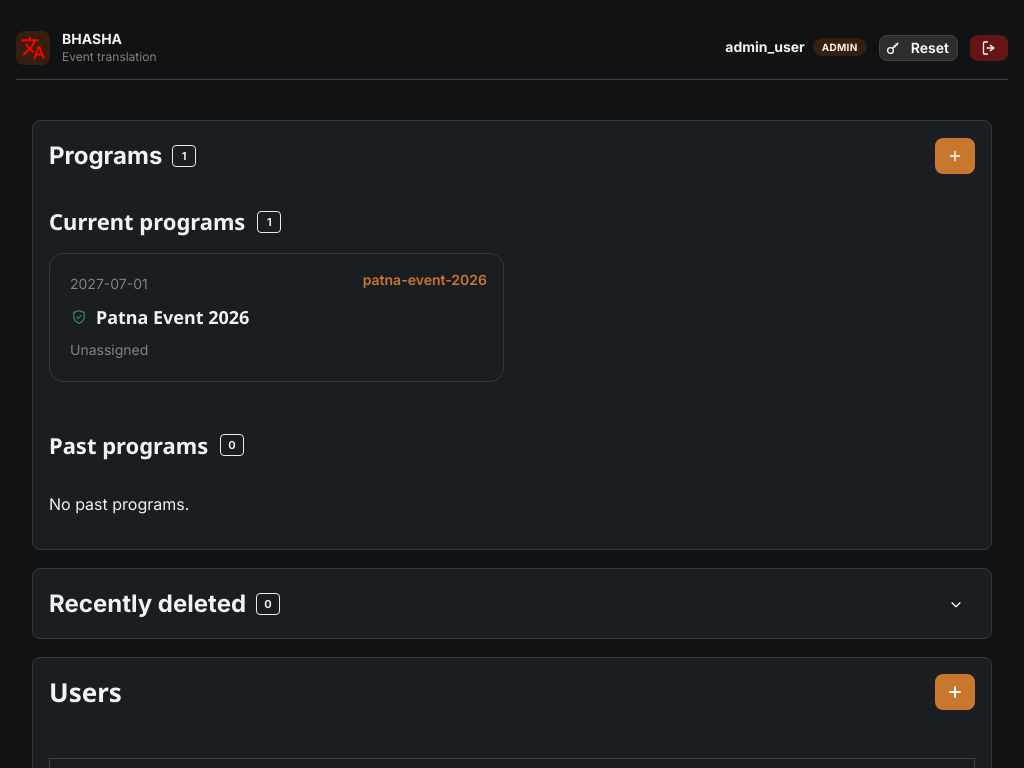
Test: AdminScreen › signs out from the Account panel and returns to the login screen
Click the button named "Log out" at (989, 48), box [970,34,1008,60]
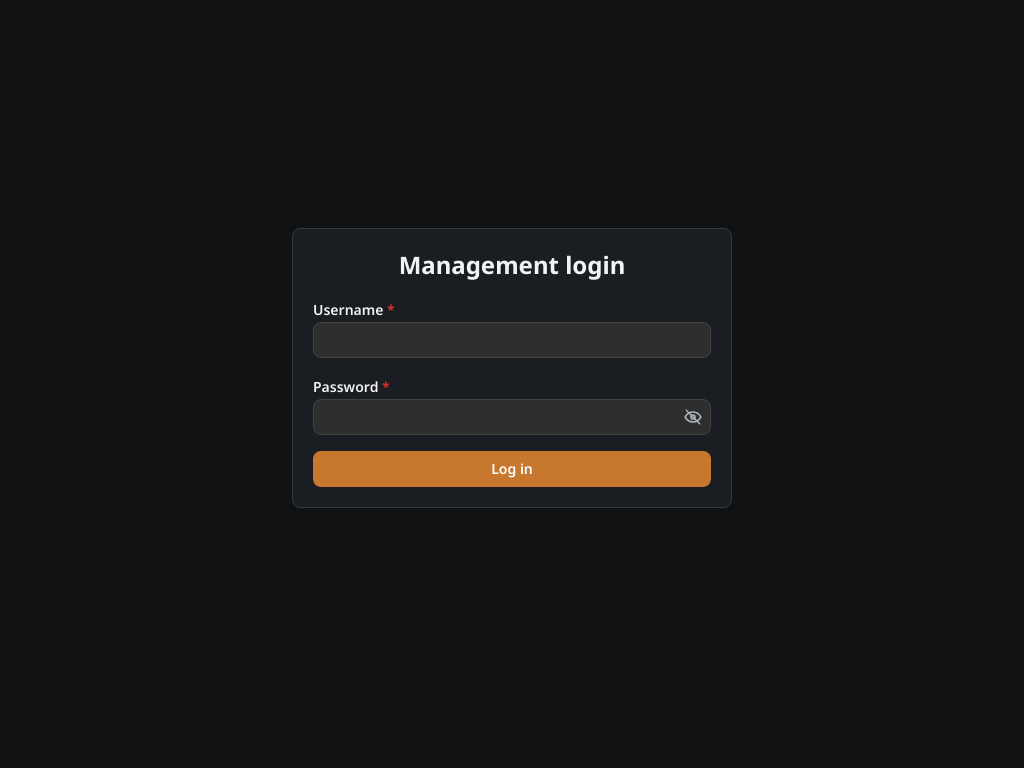
Expected: the field labelled "Username" is shown, [313,322,711,358]
